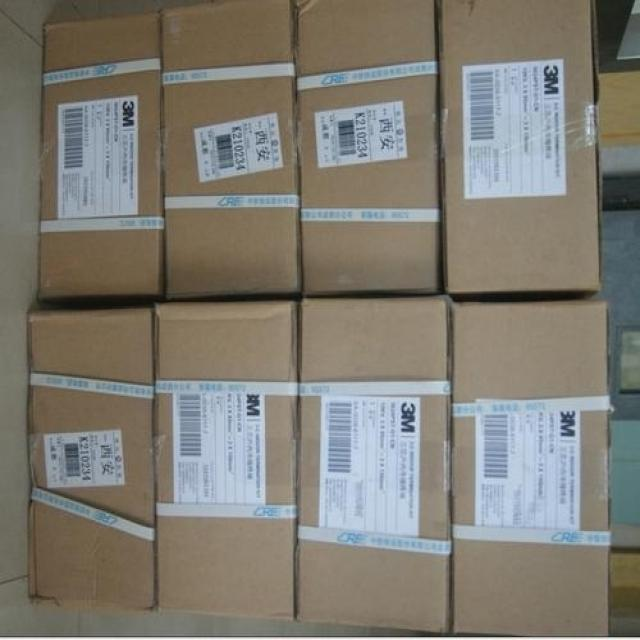box: (449, 301, 610, 637), (295, 295, 449, 632), (441, 1, 600, 297), (154, 300, 297, 622), (294, 1, 437, 296), (161, 1, 301, 301), (28, 302, 154, 612), (41, 2, 162, 301), (595, 58, 639, 212), (609, 522, 639, 622), (614, 328, 639, 418)
